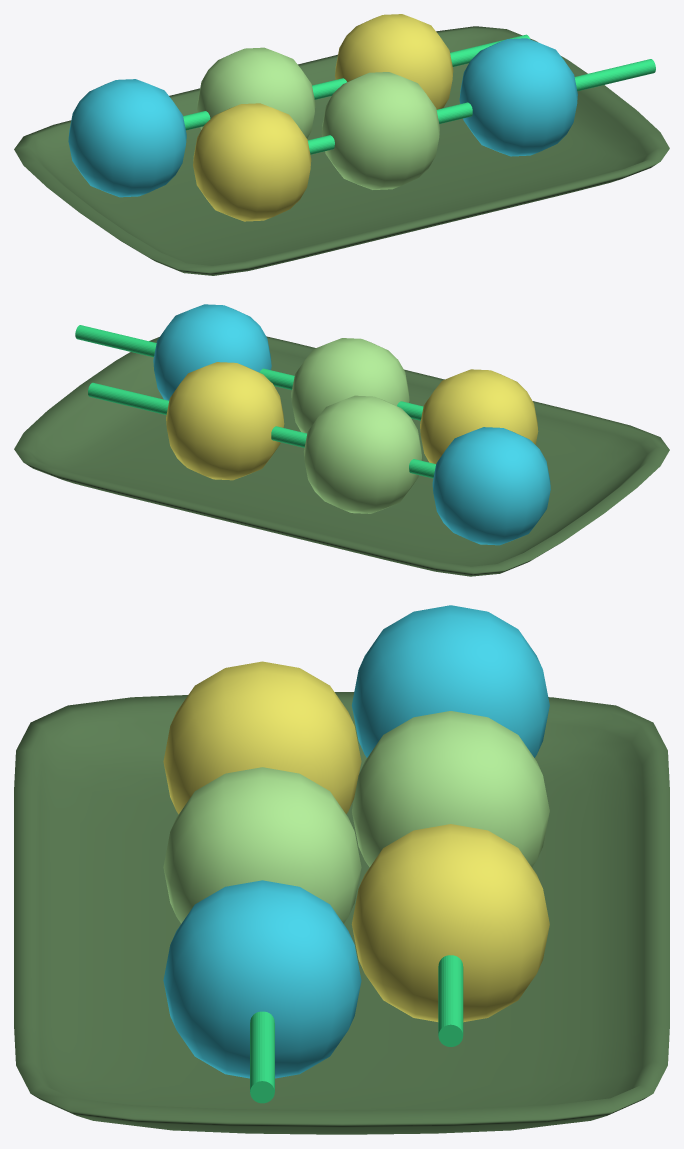
Rendered from mochi.glb.
3 views of the same model, one above another, from view 1: azimuth 30°, elevation 25°; view 2: azimuth 150°, elevation 25°; view 3: azimuth 270°, elevation 25° (orthographic). The views are drawn at different scales.
Parts seen in each view (by area): view 1: Plane, Cube.003, Cube, Cube.002, Cube.001, Cube.005, Cube.004, Cylinder, Cylinder.001; view 2: Plane, Cube.003, Cube.005, Cube.004, Cube, Cube.002, Cube.001, Cylinder.001, Cylinder; view 3: Plane, Cube.005, Cube.002, Cube.004, Cube.001, Cube.003, Cube, Cylinder.001, Cylinder.
Part boxes in pixels (box(x1,y1,x2,y2)): Plane: box(14, 26, 669, 275); Cube.003: box(68, 79, 186, 197); Cube: box(193, 103, 311, 221); Cube.002: box(459, 38, 577, 156); Cube.001: box(321, 72, 439, 189); Cube.005: box(335, 14, 453, 109); Cube.004: box(197, 47, 315, 138); Cylinder: box(307, 59, 655, 154); Cylinder.001: box(183, 34, 529, 130); Plane: box(14, 336, 669, 576); Cube.003: box(432, 427, 550, 545); Cube.005: box(166, 362, 284, 480); Cube.004: box(304, 395, 421, 513); Cube: box(420, 369, 538, 463); Cube.002: box(153, 304, 271, 400); Cube.001: box(291, 338, 409, 433); Cylinder.001: box(88, 382, 435, 478); Cylinder: box(75, 325, 423, 420); Plane: box(14, 692, 669, 1134); Cube.005: box(351, 824, 549, 1022); Cube.002: box(163, 880, 361, 1078); Cube.004: box(352, 711, 549, 867); Cube.001: box(163, 767, 361, 923); Cube.003: box(351, 605, 549, 757); Cube: box(163, 661, 361, 814); Cylinder.001: box(438, 955, 463, 1046); Cylinder: box(250, 1011, 274, 1103).
Bounding box in the file's own units: 9.04 × 1.78 × 5.56.
